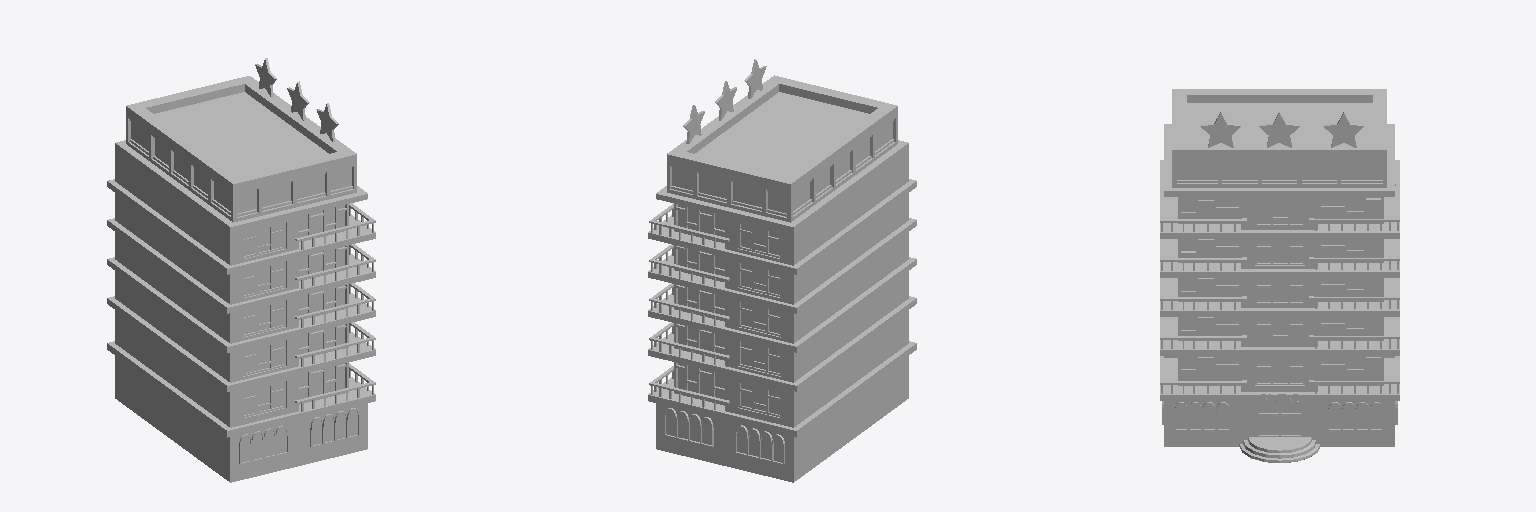
The model's file is hotel.obj.
3 renders of one model, left to right at view 1: azimuth 30°, elevation 25°; view 2: azimuth 150°, elevation 25°; view 3: azimuth 270°, elevation 25°, orthographic.
Parts seen in each view (by area): view 1: Hotel(3star)_Cube.049; view 2: Hotel(3star)_Cube.049; view 3: Hotel(3star)_Cube.049.
Part boxes in pixels (bbox=[...]): Hotel(3star)_Cube.049: bbox=[107, 58, 375, 482]; Hotel(3star)_Cube.049: bbox=[648, 59, 916, 482]; Hotel(3star)_Cube.049: bbox=[1160, 89, 1399, 462].
Size of the model in its own units: 15.54 by 27.45 by 18.24.